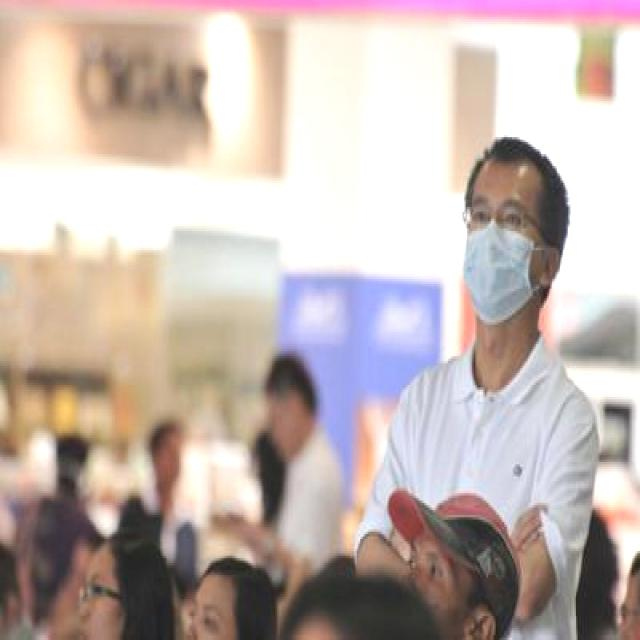face_mask: (462, 190, 544, 322)
face_nomask: (75, 568, 125, 638), (186, 594, 233, 638)
glasses: (461, 202, 531, 238)
head_nohelmet: (272, 354, 326, 450), (476, 128, 558, 190), (80, 529, 158, 568), (184, 548, 256, 590)
person: (356, 132, 615, 640)
